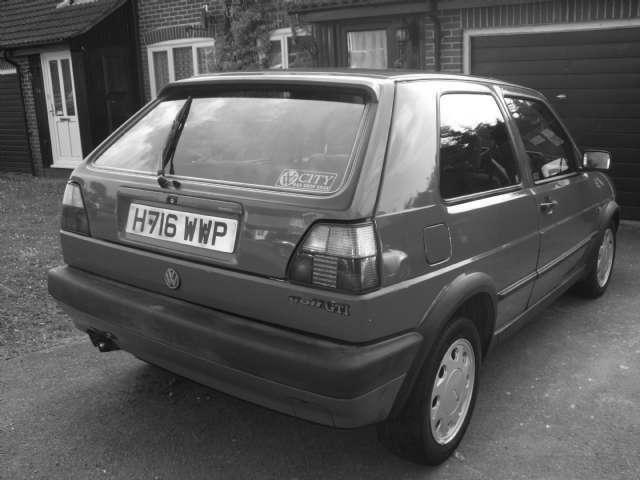car: (48, 67, 621, 463)
